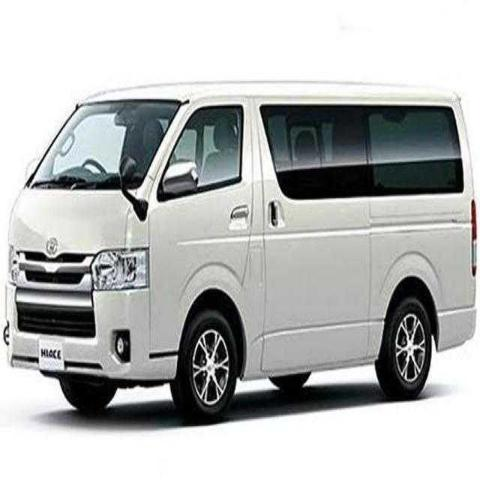van: (6, 83, 475, 425)
